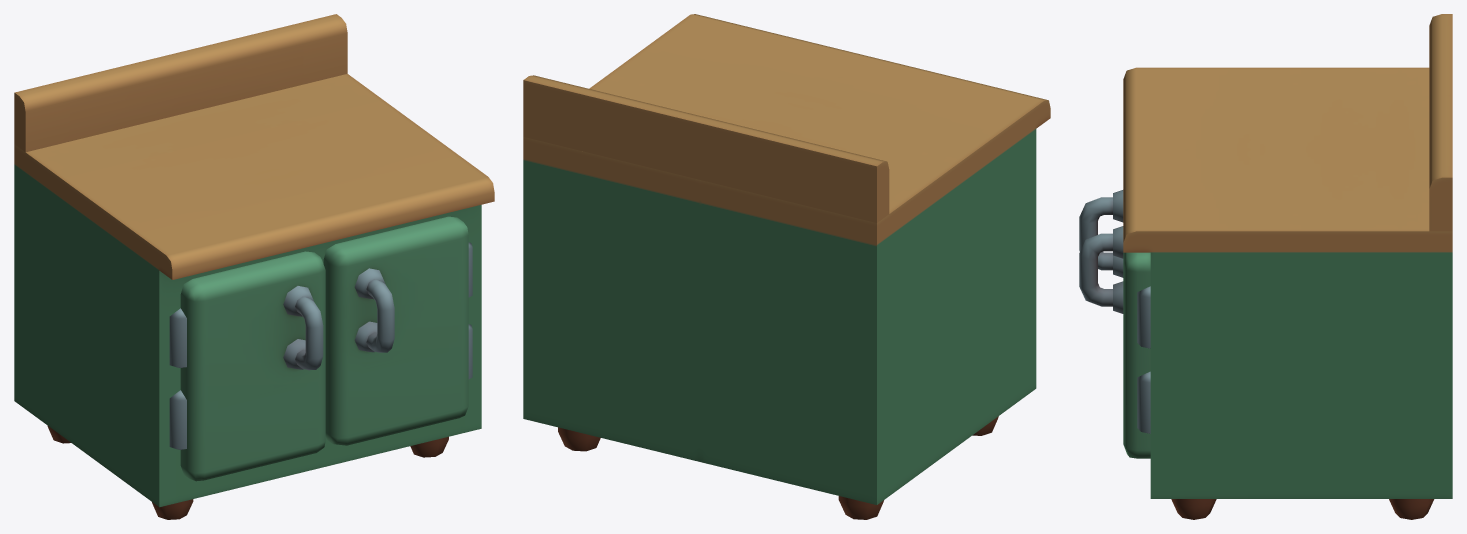
The model's file is big_cabinet_01.fbx.
3 renders of one model, left to right at view 1: azimuth 30°, elevation 25°; view 2: azimuth 150°, elevation 25°; view 3: azimuth 270°, elevation 25°, orthographic. The views are drawn at different scales.
Parts seen in each view (by area): view 1: big_cabinet_01_ready; view 2: big_cabinet_01_ready; view 3: big_cabinet_01_ready.
Boxes of the visible parts, box(x1,y1,x2,y2) form: big_cabinet_01_ready: box(14, 14, 494, 519); big_cabinet_01_ready: box(523, 14, 1050, 519); big_cabinet_01_ready: box(1079, 14, 1452, 519).
Size of the model in its own units: 100 by 100 by 96.4.
